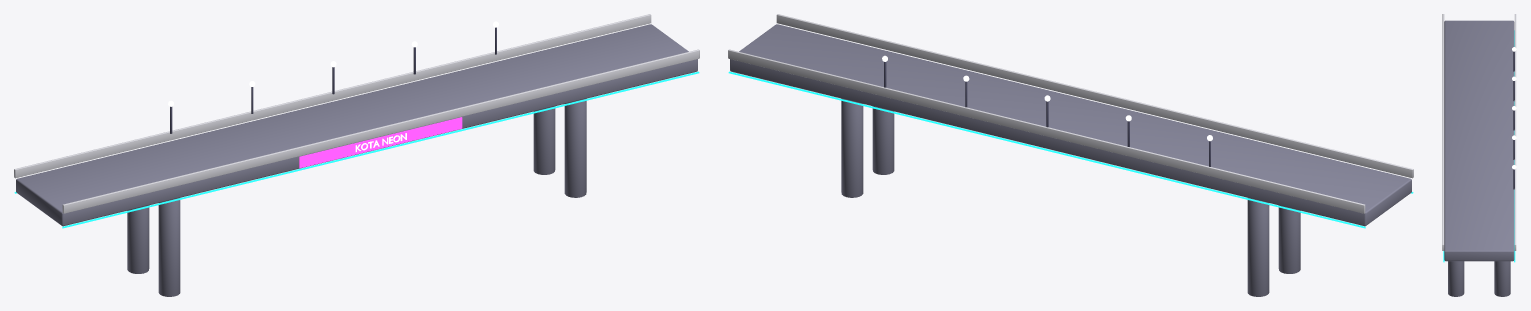
File: jembatan-layang.glb
3 renders of one model, left to right at view 1: azimuth 30°, elevation 25°; view 2: azimuth 150°, elevation 25°; view 3: azimuth 270°, elevation 25°, orthographic. The views are drawn at different scales.
Parts seen in each view (by area): view 1: Cube, Cube.001, Cube.002, Cylinder, Cylinder.002, Cube.003, Cylinder.004, Cylinder.001, Cylinder.003; view 2: Cube, Cube.002, Cube.001, Cylinder.001, Cylinder.003, Cylinder.005, Cylinder, Cylinder.002; view 3: Cube, Cube.001, Cylinder.003, Cylinder.002, Cube.002, Cylinder.005.
Part boxes in pixels (x1,y1,x2,y2): Cube: (16, 24, 697, 226); Cube.001: (62, 49, 699, 213); Cube.002: (14, 14, 651, 178); Cylinder: (158, 198, 180, 296); Cylinder.002: (564, 98, 586, 197); Cube.003: (299, 117, 462, 167); Cylinder.004: (62, 71, 699, 228); Cylinder.001: (127, 205, 149, 273); Cylinder.003: (533, 106, 555, 174); Cube: (730, 24, 1411, 226); Cube.002: (728, 49, 1365, 213); Cube.001: (776, 14, 1413, 178); Cylinder.001: (1247, 198, 1269, 296); Cylinder.003: (841, 98, 863, 197); Cylinder.005: (728, 71, 1365, 228); Cylinder: (1278, 205, 1300, 273); Cylinder.002: (872, 106, 894, 174); Cube: (1444, 20, 1514, 261); Cube.001: (1442, 14, 1444, 250); Cylinder.003: (1494, 261, 1510, 296); Cylinder.002: (1448, 261, 1464, 296); Cube.002: (1514, 14, 1516, 250); Cylinder.005: (1514, 30, 1515, 262).
Bounding box in the file's own units: 94 × 21.6 × 12.75.
